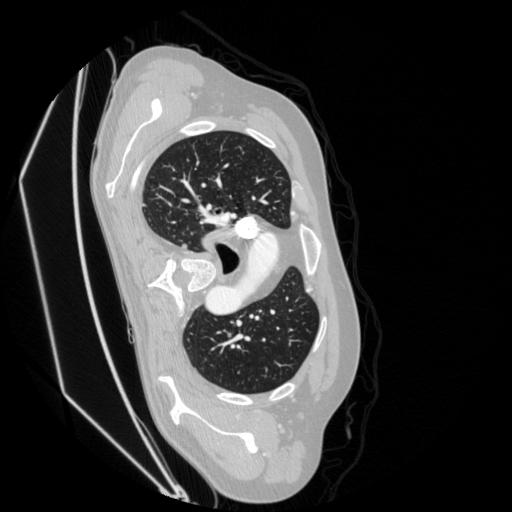nodule: (180, 240, 192, 252)
